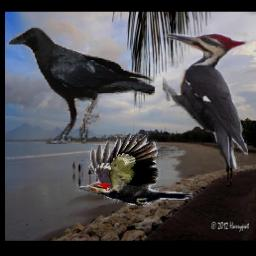Crow: (8, 24, 156, 144)
Woodpecker: (163, 33, 248, 169), (75, 131, 192, 206)
